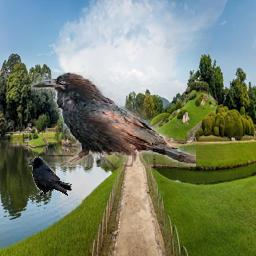Crow: (32, 73, 197, 168), (28, 157, 72, 198)
